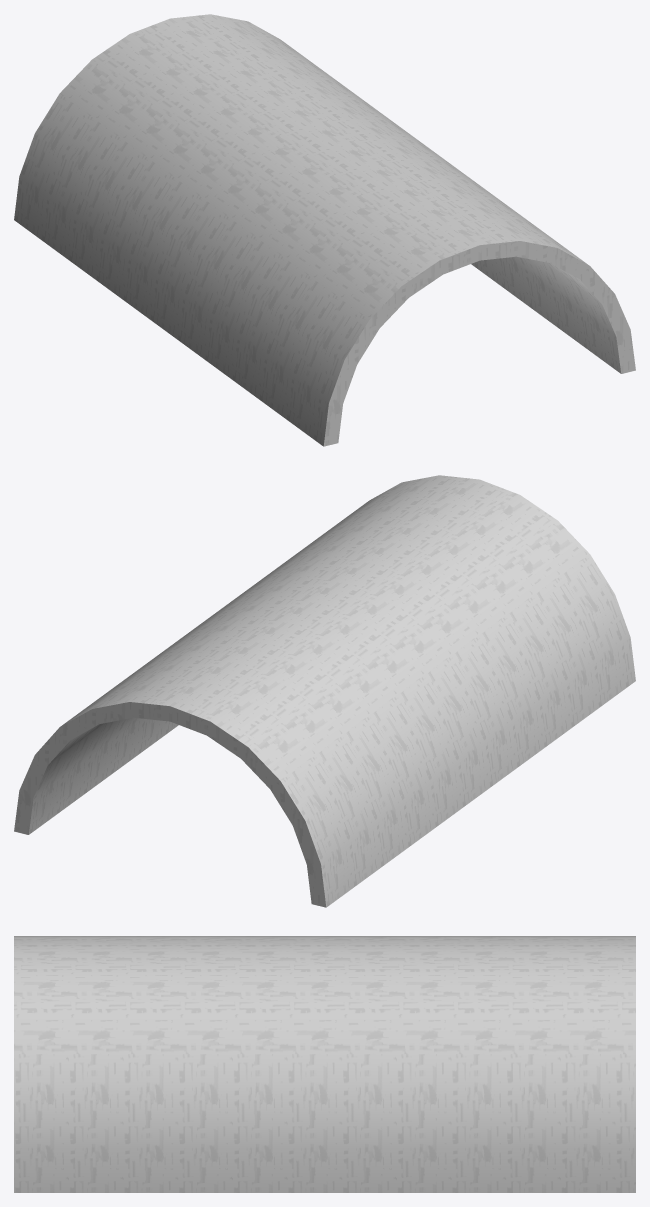
File: Tunnel_A.fbx
3 renders of one model, top to bottom at view 1: azimuth 30°, elevation 25°; view 2: azimuth 150°, elevation 25°; view 3: azimuth 270°, elevation 25°, orthographic.
Visible parts, largest first — view 1: Tunnel_A; view 2: Tunnel_A; view 3: Tunnel_A.
Part boxes in pixels (x1,y1,x2,y2): Tunnel_A: [14, 14, 635, 446]; Tunnel_A: [14, 475, 635, 907]; Tunnel_A: [14, 936, 635, 1192].
Bounding box in the file's own units: 6628 × 3314 × 11382.
Materials: 1 (1 with a texture image).
